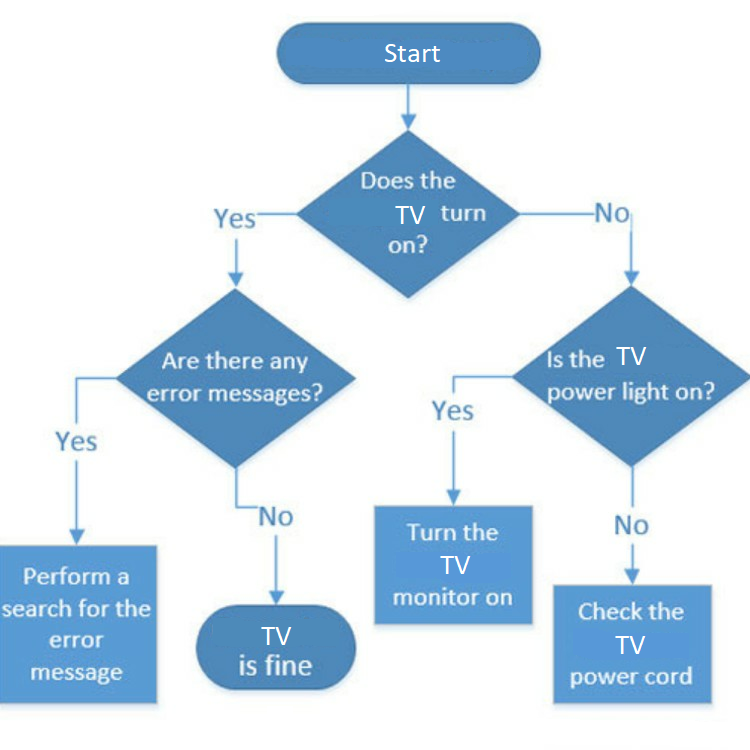arrow: (69, 376, 129, 545), (512, 209, 642, 286), (446, 373, 512, 503), (233, 466, 282, 601), (226, 209, 299, 290), (624, 465, 642, 584), (400, 84, 418, 130)
decision: (113, 287, 355, 471), (511, 285, 750, 464), (297, 130, 520, 299)
process: (1, 549, 159, 708), (550, 583, 716, 706), (372, 503, 534, 628)
terminator: (277, 20, 544, 86), (196, 603, 358, 691)
text: (1, 564, 153, 686), (542, 342, 719, 411), (359, 167, 488, 259), (568, 599, 696, 689), (393, 518, 516, 608), (145, 347, 325, 407), (235, 625, 313, 678), (380, 42, 443, 70), (429, 396, 476, 425), (212, 207, 257, 232), (54, 431, 99, 454), (255, 505, 292, 530), (613, 512, 650, 537), (593, 201, 629, 226)
